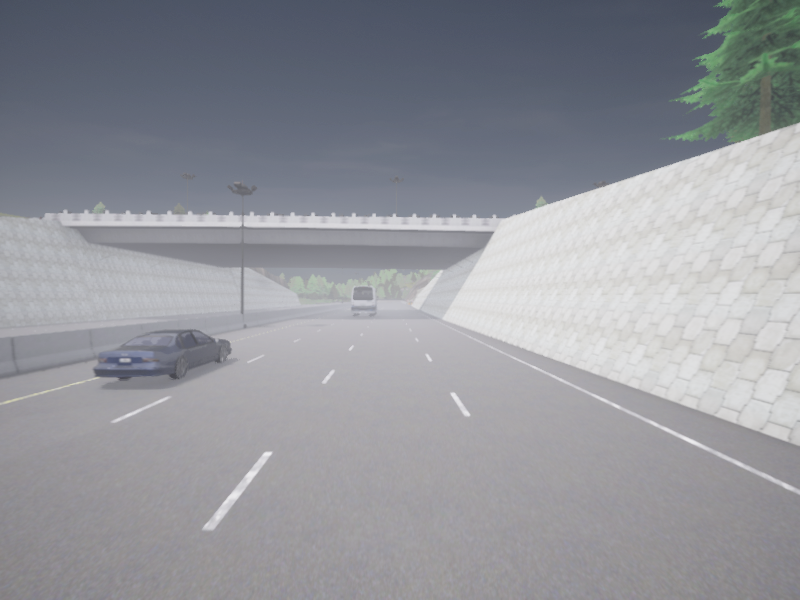vehicle: (93, 329, 231, 379), (351, 286, 378, 315)
